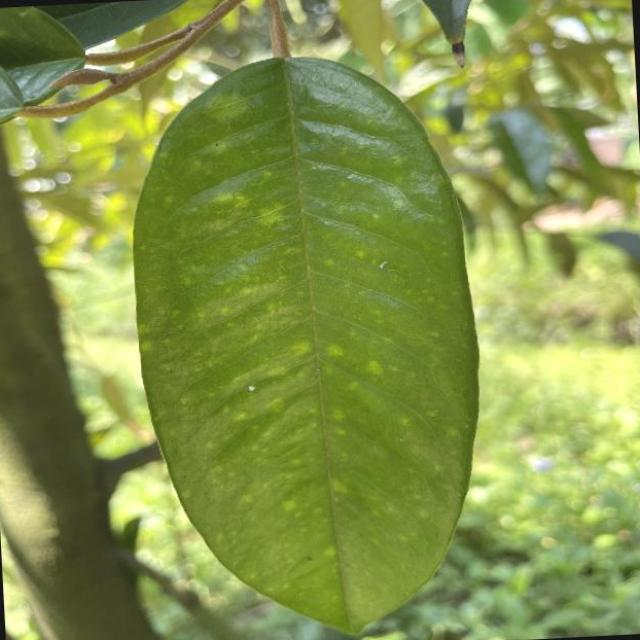Leaf Spot: (108, 33, 503, 640)
